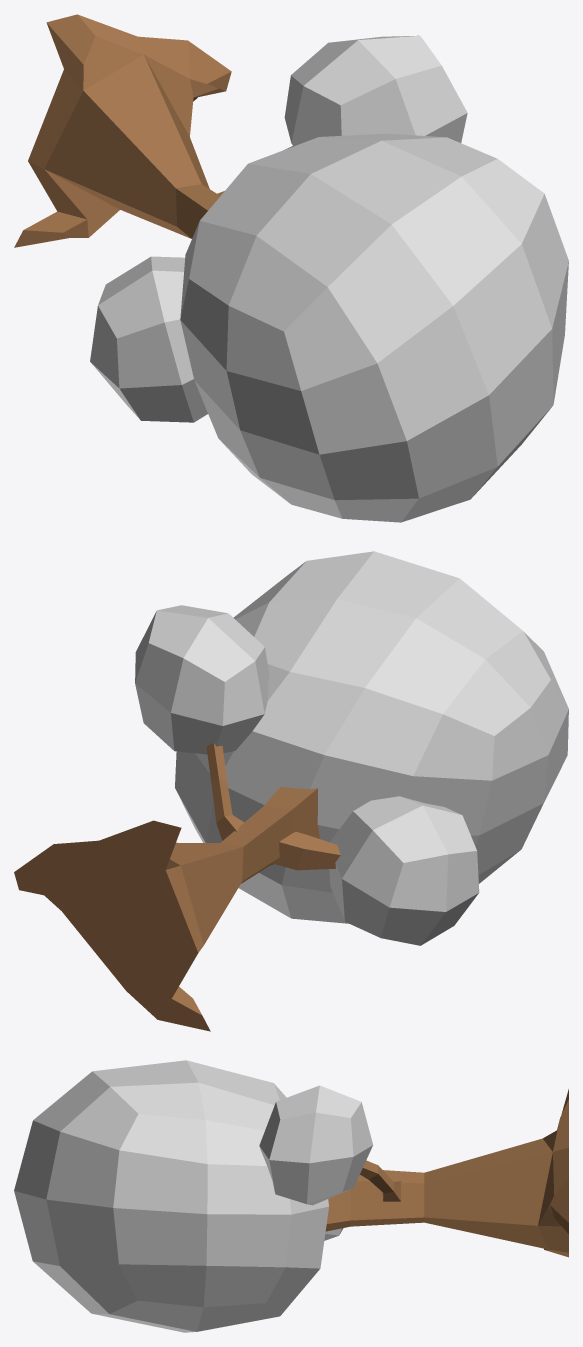
The model's file is tree.glb.
The picture shows the model from 3 angles, top to bottom: view 1: azimuth 30°, elevation 25°; view 2: azimuth 150°, elevation 25°; view 3: azimuth 270°, elevation 25°; orthographic projection. The views are drawn at different scales.
Parts seen in each view (by area): view 1: Cube.097, Cylinder.057, Cube.101, Cube.100; view 2: Cube.097, Cylinder.057, Cube.100, Cube.101, Cube.098, Cube.099; view 3: Cube.097, Cylinder.057, Cube.101, Cube.099.
Part boxes in pixels (x1,y1,x2,y2): Cube.097: (180, 133, 568, 522); Cylinder.057: (14, 14, 231, 247); Cube.101: (284, 35, 467, 146); Cube.100: (90, 256, 207, 422); Cube.097: (175, 551, 568, 923); Cylinder.057: (14, 787, 319, 1031); Cube.100: (329, 796, 479, 945); Cube.101: (135, 605, 269, 754); Cube.098: (272, 832, 340, 870); Cube.099: (206, 743, 243, 840); Cube.097: (14, 1060, 328, 1332); Cylinder.057: (325, 1089, 568, 1257); Cube.101: (259, 1085, 372, 1205); Cube.099: (360, 1160, 401, 1201).
Bounding box in the file's own units: 2.64 × 2.55 × 4.87.
